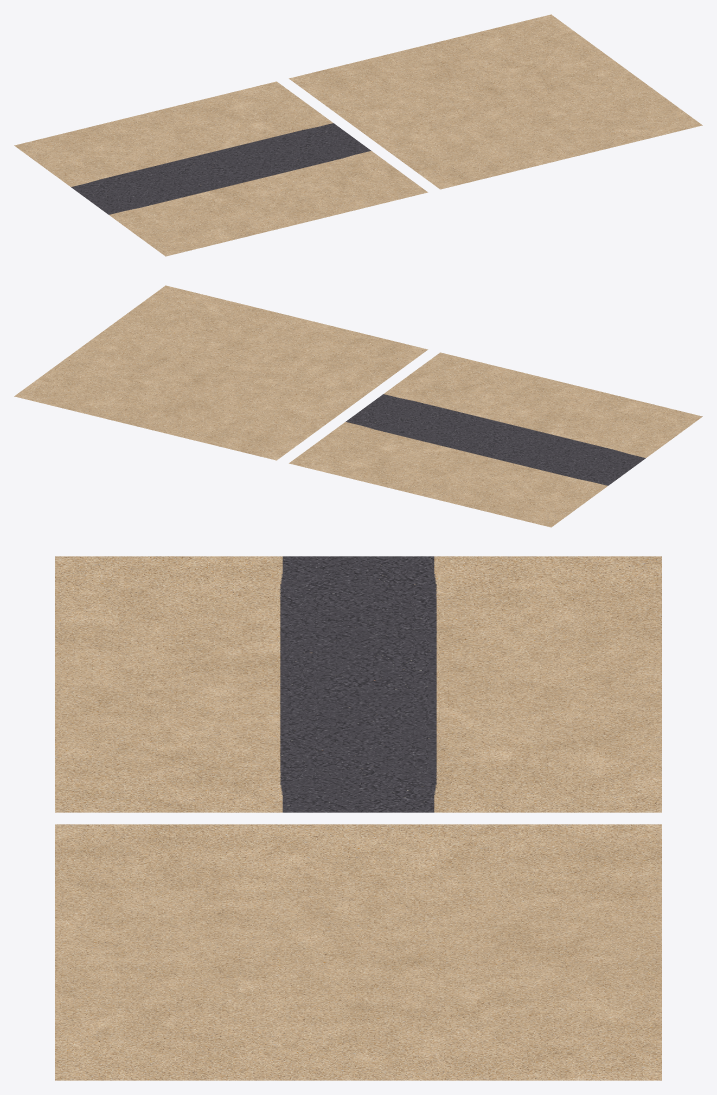
The model's file is Suelosas.fbx.
3 views of the same model, one above another, from view 1: azimuth 30°, elevation 25°; view 2: azimuth 150°, elevation 25°; view 3: azimuth 270°, elevation 25° (orthographic). The views are drawn at different scales.
Visible parts, largest first — view 1: Asfalto.002, Asfalto.004; view 2: Asfalto.002, Asfalto.004; view 3: Asfalto.002, Asfalto.004.
Boxes of the visible parts, x1=… form: Asfalto.002: x1=289, y1=14, x2=702, y2=189; Asfalto.004: x1=14, y1=81, x2=427, y2=256; Asfalto.002: x1=14, y1=285, x2=427, y2=460; Asfalto.004: x1=289, y1=352, x2=702, y2=527; Asfalto.002: x1=55, y1=824, x2=661, y2=1080; Asfalto.004: x1=55, y1=556, x2=661, y2=812.
Bounding box in the file's own units: 9037 × 0.00125 × 4418.
